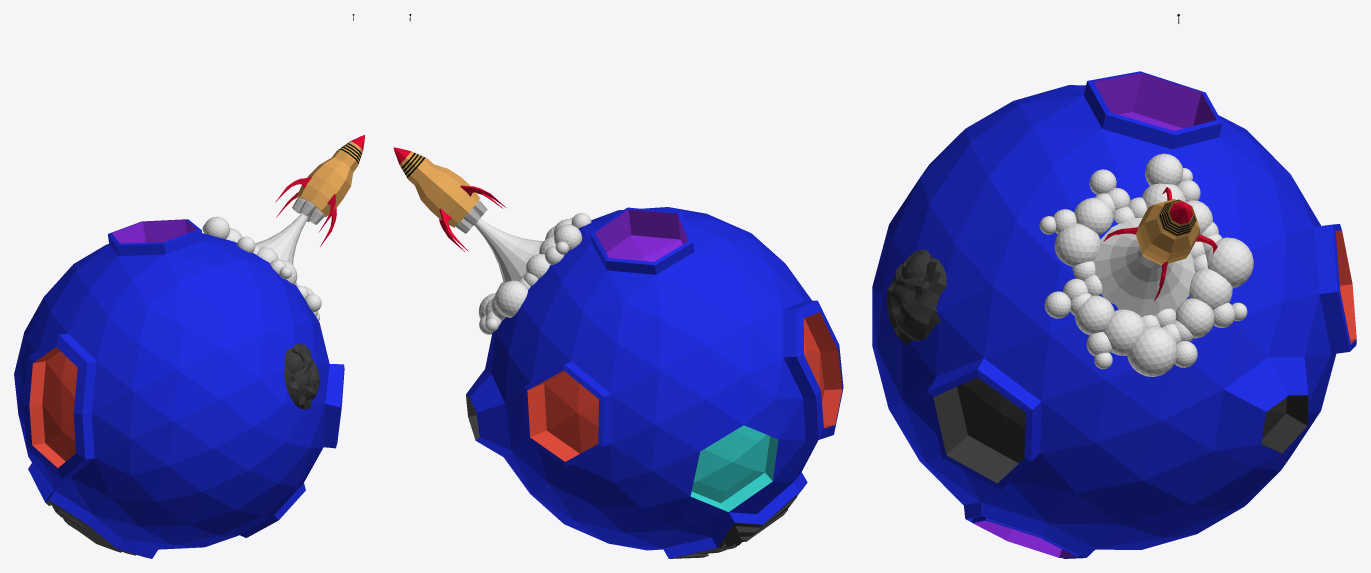
The model's file is rocketship.glb.
The picture shows the model from 3 angles, left to right: view 1: azimuth 30°, elevation 25°; view 2: azimuth 150°, elevation 25°; view 3: azimuth 270°, elevation 25°; orthographic projection. The views are drawn at different scales.
Visible parts, largest first — view 1: Icosphere.001, Cylinder.001, Cylinder.007, Icosphere.037; view 2: Icosphere.001, Cylinder.001, Cylinder.007, Icosphere.005; view 3: Icosphere.001, Cylinder.007, Cylinder.001, Icosphere.016, Icosphere.005, Icosphere.025, Icosphere.014, Icosphere.003, Icosphere.021, Icosphere.010, Icosphere.032, Icosphere.037 (+2 smaller).
Part boxes in pixels (box(x1,y1,x2,y2)): Icosphere.001: box(14, 219, 344, 558); Cylinder.001: box(296, 135, 364, 217); Cylinder.007: box(255, 213, 308, 264); Icosphere.037: box(203, 216, 229, 239); Icosphere.001: box(466, 207, 843, 558); Cylinder.001: box(393, 147, 480, 227); Cylinder.007: box(474, 219, 543, 282); Icosphere.005: box(495, 280, 527, 317); Icosphere.001: box(872, 71, 1356, 558); Cylinder.007: box(1093, 218, 1195, 317); Cylinder.001: box(1136, 199, 1200, 265); Icosphere.016: box(1127, 326, 1177, 376); Icosphere.005: box(1205, 237, 1253, 288); Icosphere.025: box(1054, 223, 1100, 266); Icosphere.014: box(1104, 309, 1145, 355); Icosphere.003: box(1189, 268, 1232, 309); Icosphere.021: box(1075, 295, 1114, 335); Icosphere.010: box(1176, 298, 1214, 338); Icosphere.032: box(1074, 197, 1113, 235); Icosphere.037: box(1145, 153, 1183, 185).
Bounding box in the file's own units: 7.91 × 9.43 × 6.18.
